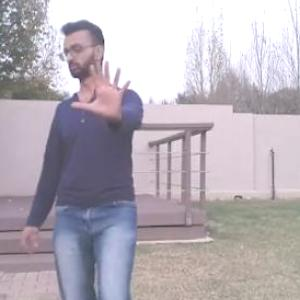follow_hand: (68, 52, 136, 124)
